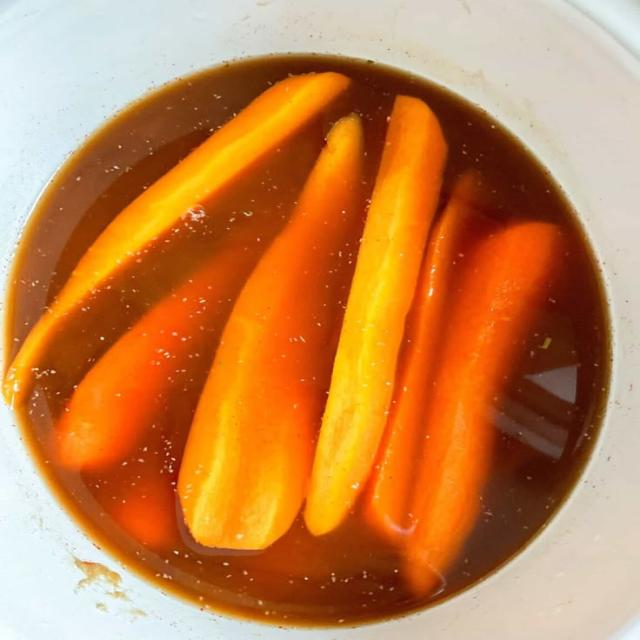carrot: (3, 73, 349, 405), (179, 115, 363, 549), (305, 96, 446, 534), (402, 222, 561, 595), (52, 221, 259, 471), (364, 170, 490, 542), (106, 470, 179, 551)
